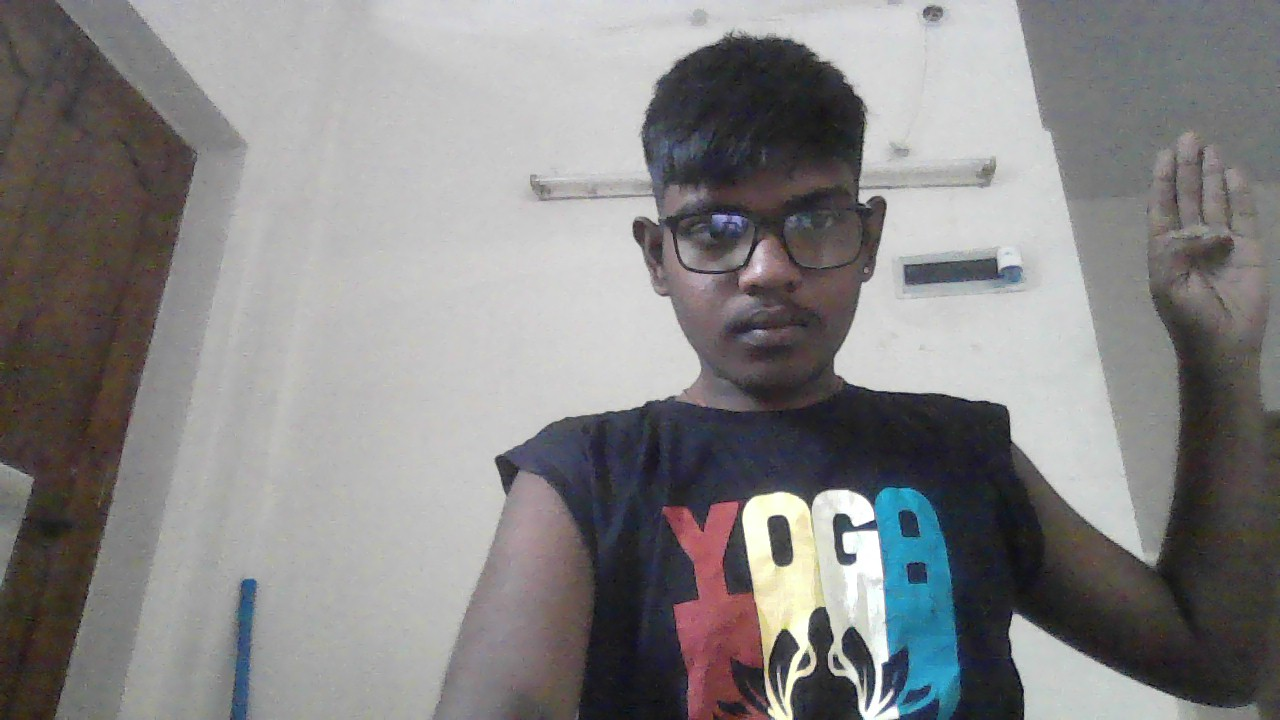B: (1143, 132, 1272, 371)
